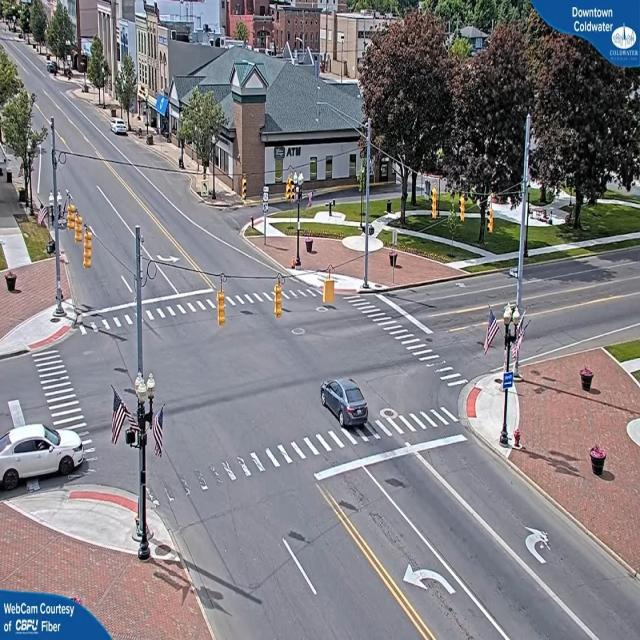car: (0, 419, 87, 494), (320, 379, 371, 429), (112, 121, 130, 138), (510, 268, 521, 280)
